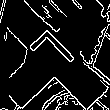L_SE: (26, 26, 84, 84)
